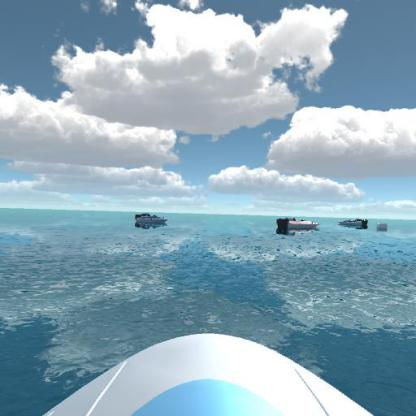usv1: (130, 209, 171, 231), (336, 215, 371, 231)
usv3: (276, 211, 321, 238)
